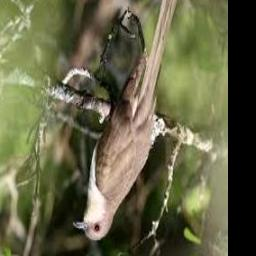Cuckoo: (73, 0, 181, 241)
